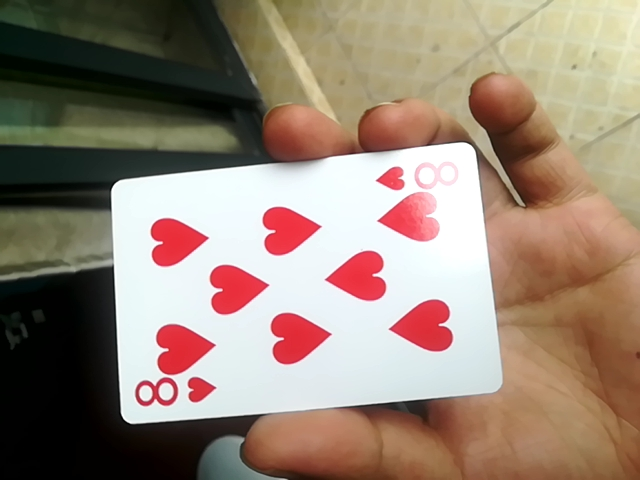hx 8: (112, 150, 495, 426)
